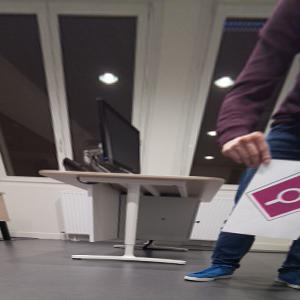search: (247, 170, 300, 223)
